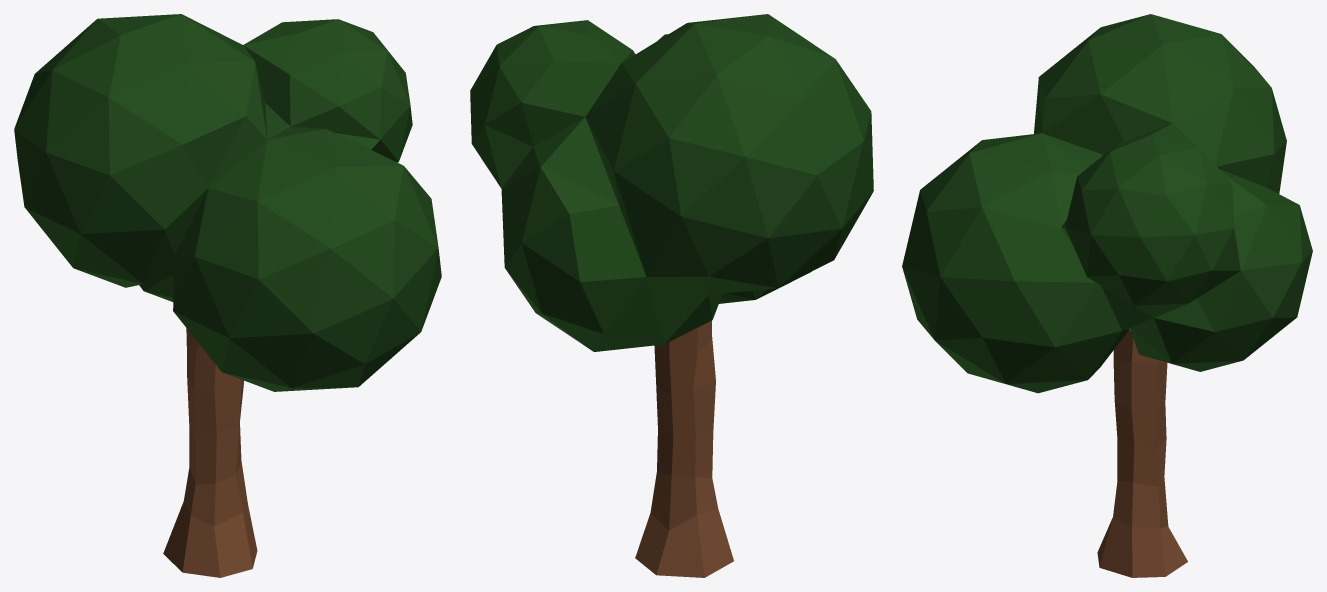
Rendered from Tree5.obj.
3 views of the same model, side by side, from view 1: azimuth 30°, elevation 25°; view 2: azimuth 150°, elevation 25°; view 3: azimuth 270°, elevation 25° (orthographic). The views are drawn at different scales.
Visible parts, largest first — view 1: drzewo.010; view 2: drzewo.010; view 3: drzewo.010.
Boxes of the visible parts, <box> form: drzewo.010: <box>14,14,441,577</box>; drzewo.010: <box>470,14,873,577</box>; drzewo.010: <box>902,14,1312,577</box>.
Bounding box in the file's own units: 4.38 × 6.21 × 4.57.
